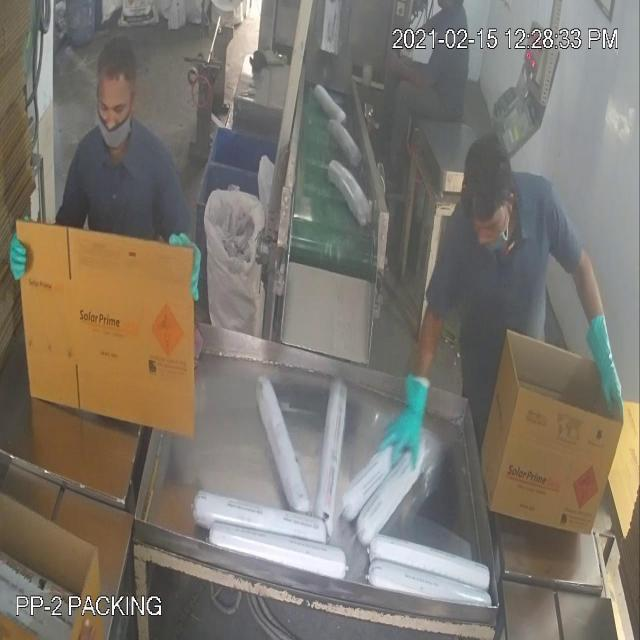No_Gloves: (48, 76, 605, 418)
